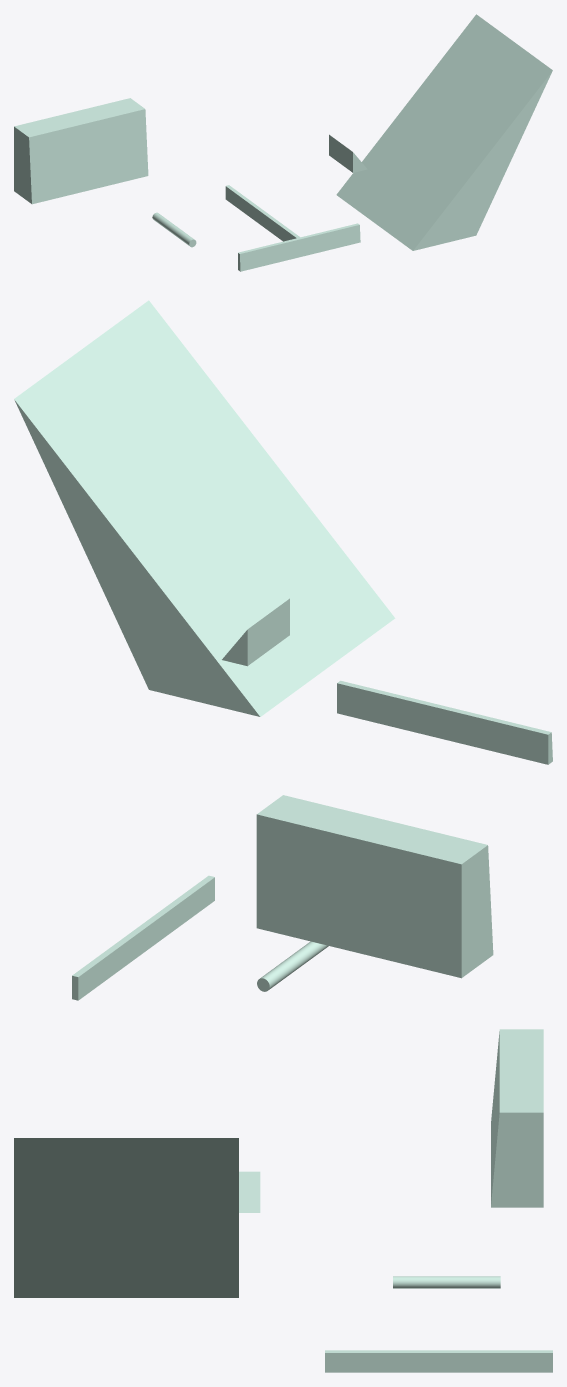
3 views of the same model, one above another, from view 1: azimuth 30°, elevation 25°; view 2: azimuth 150°, elevation 25°; view 3: azimuth 270°, elevation 25° (orthographic). The views are drawn at different scales.
Visible parts, largest first — view 1: Renderer Node; view 2: Renderer Node; view 3: Renderer Node.
Part boxes in pixels (left/top/right/bottom): Renderer Node: left=14, top=14, right=552, bottom=271; Renderer Node: left=14, top=300, right=552, bottom=1000; Renderer Node: left=14, top=1029, right=552, bottom=1372.
Bounding box in the file's own units: 1.54 × 0.9375 × 1.37.
